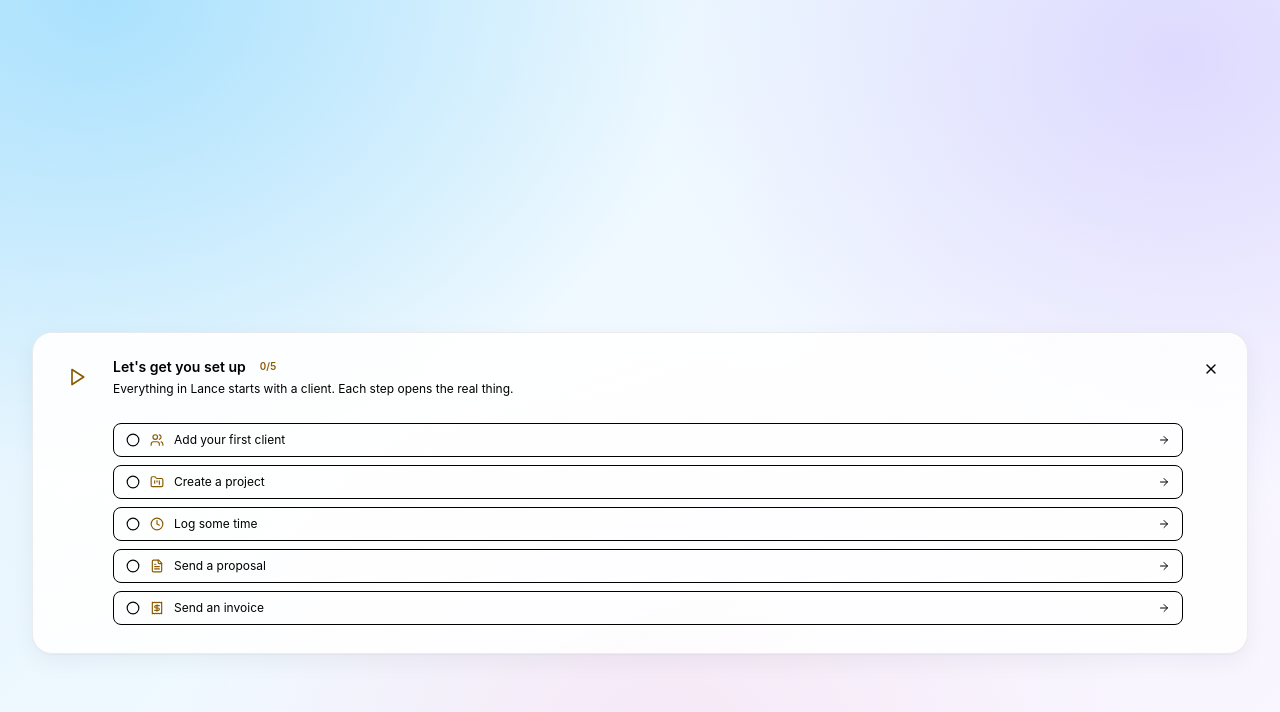
first-run checklist › dismiss persists and hides the card
This screenshot has width=1280, height=712.
Click the button named "Dismiss setup checklist".
click(1211, 368)  # box 1199,356 -> 1223,380
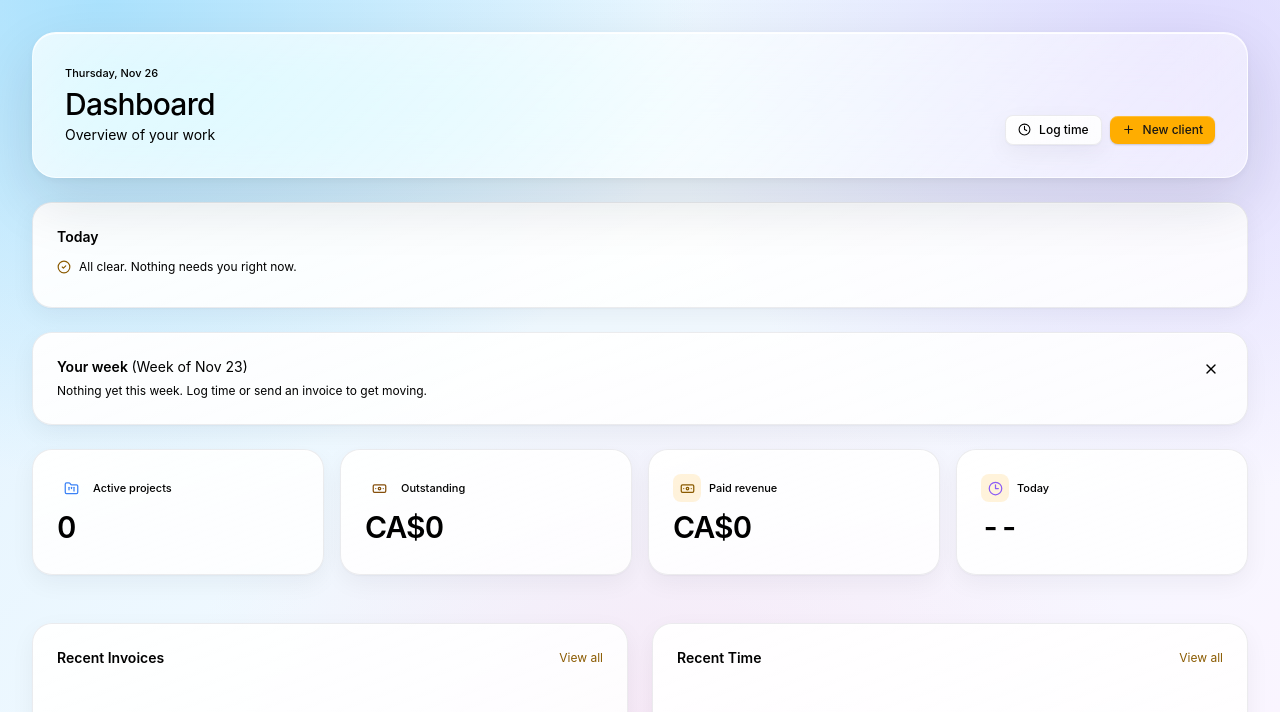
Result: the heading "Let's get you set up" is gone
